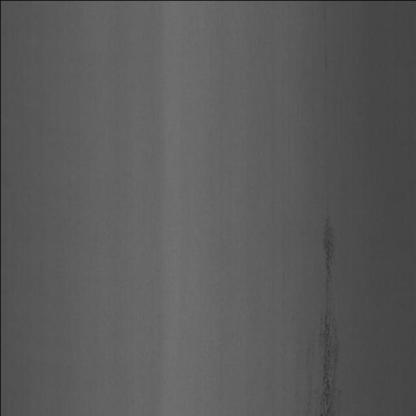inclusion: (302, 209, 352, 410)
